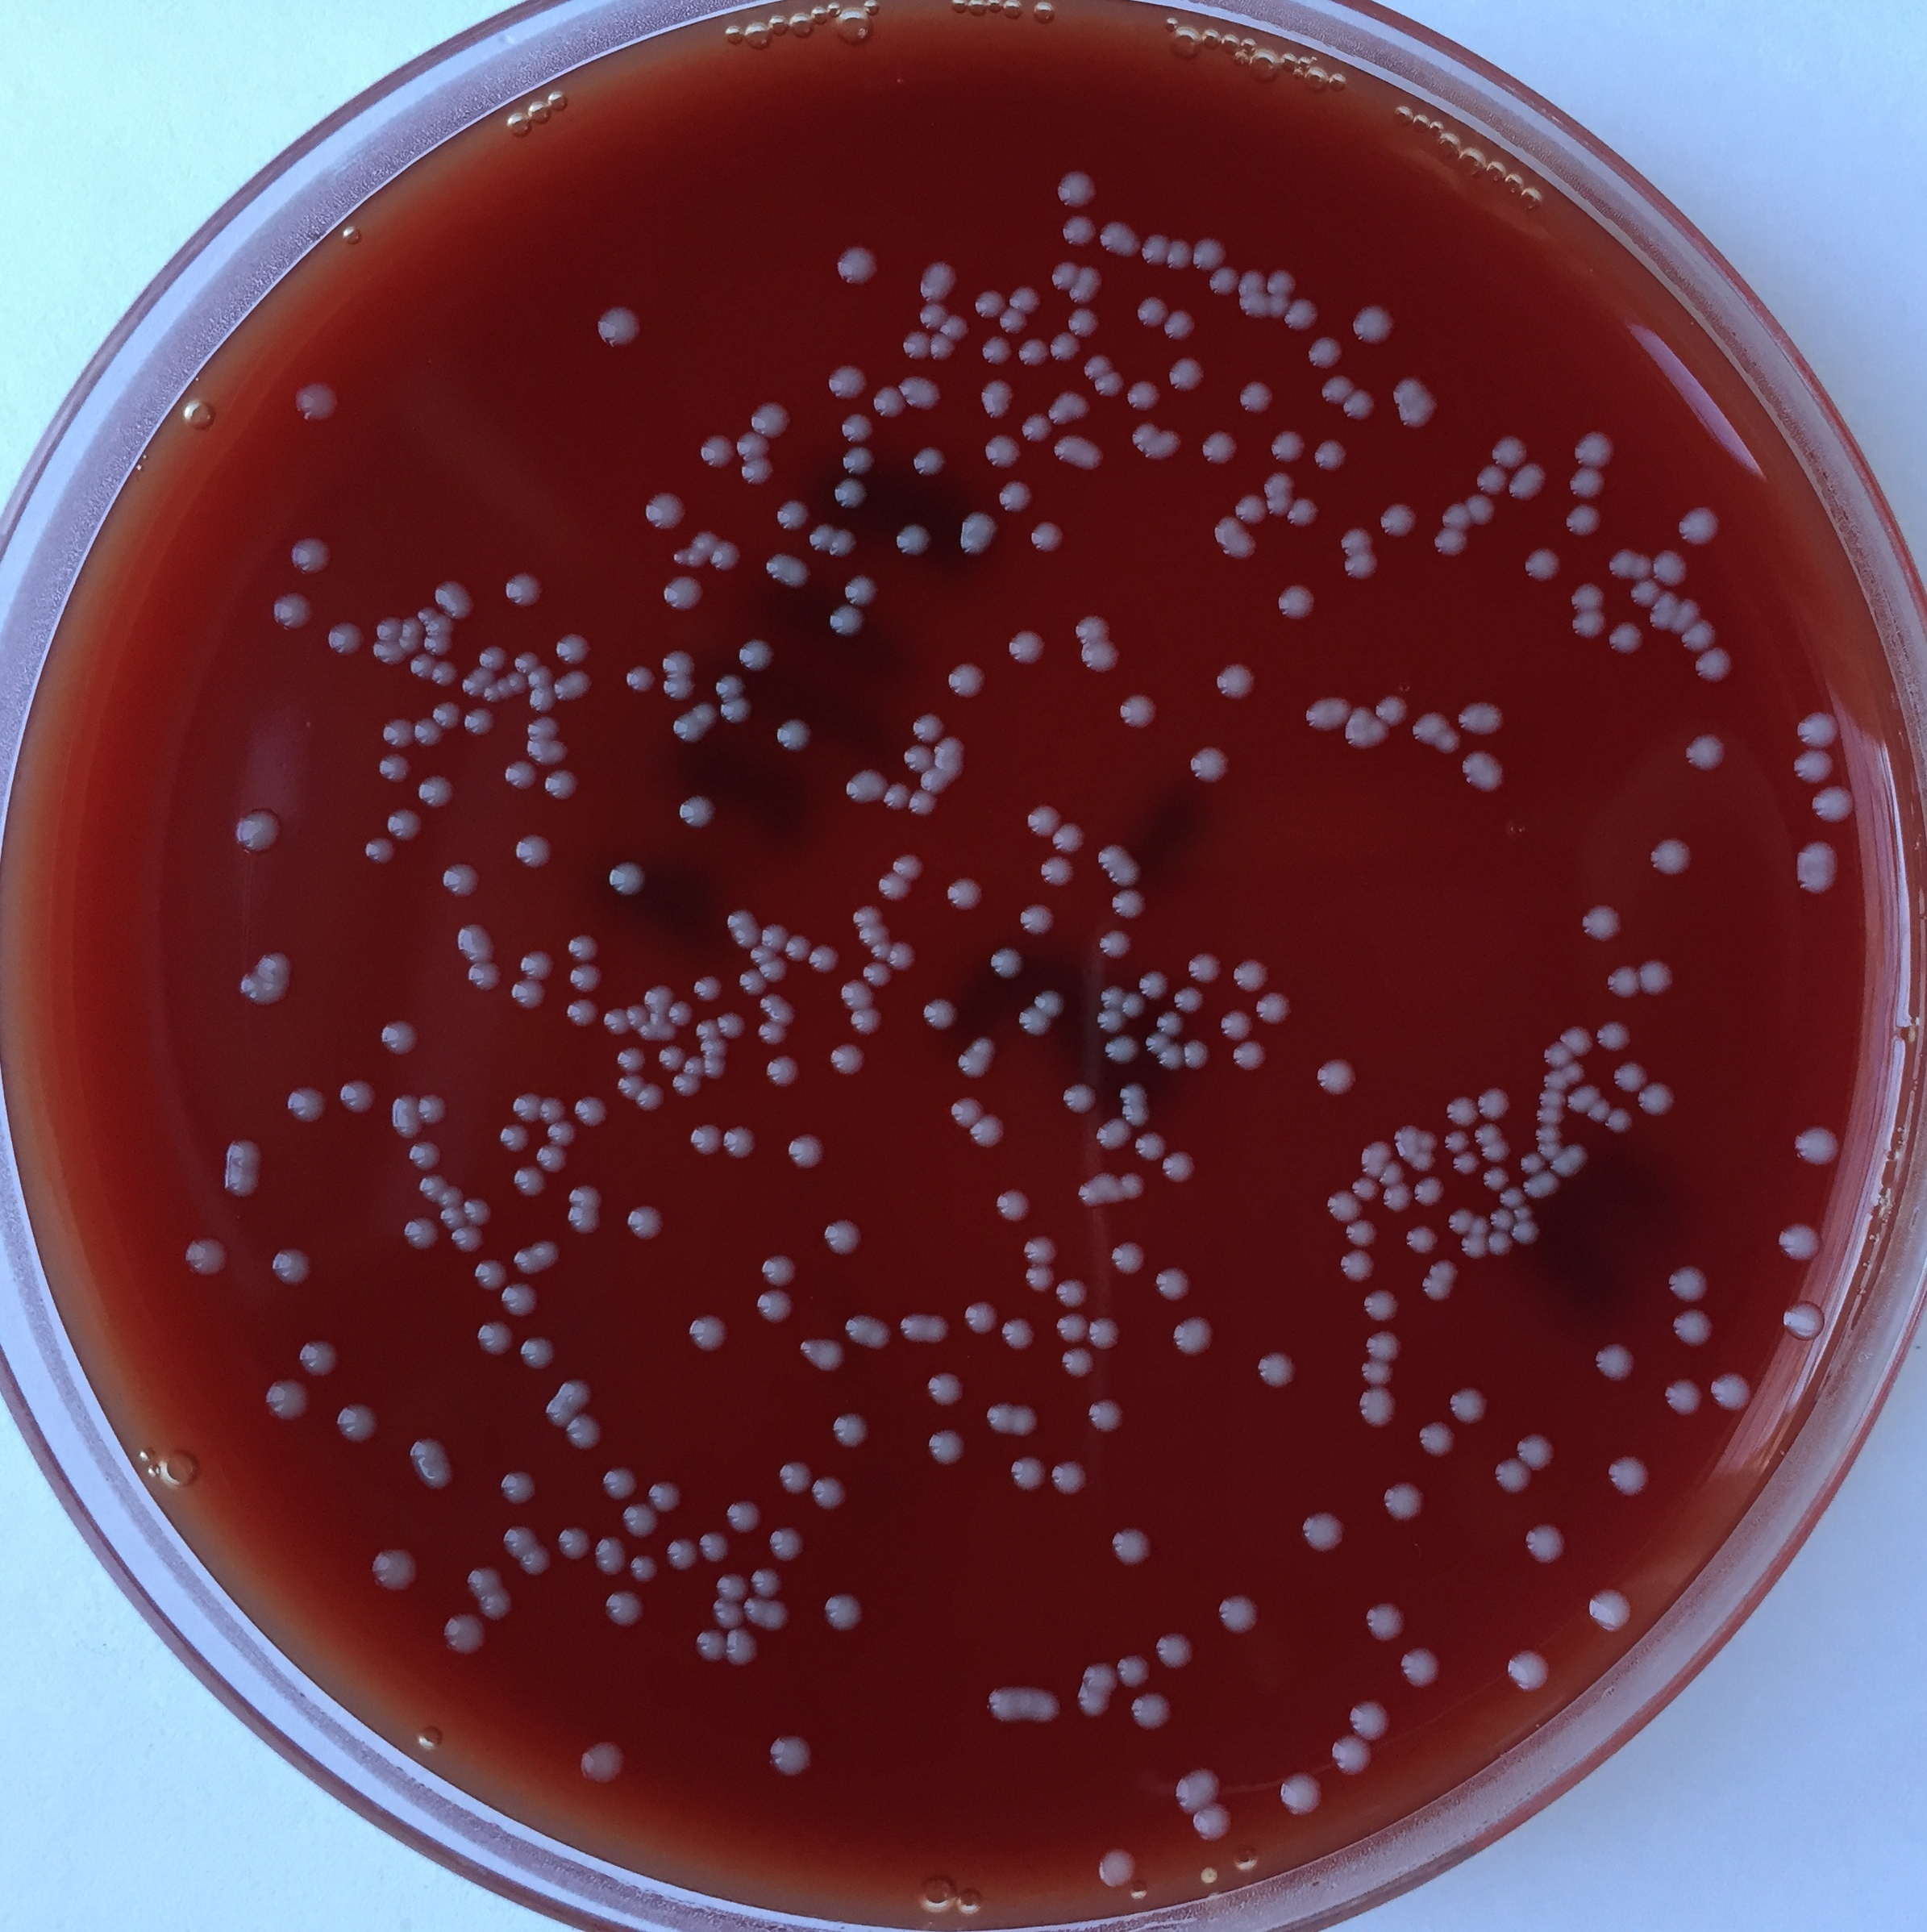sp22: (535, 1376, 598, 1440), (1166, 1763, 1233, 1816), (404, 1431, 461, 1493), (1793, 836, 1842, 900), (221, 1134, 266, 1200), (1391, 376, 1440, 434), (1789, 1120, 1848, 1168), (228, 806, 284, 854), (1301, 690, 1353, 739), (1406, 709, 1459, 759), (1807, 780, 1860, 829), (367, 1547, 422, 1595), (796, 1330, 851, 1378), (1274, 1768, 1329, 1816), (981, 1676, 1029, 1731), (1052, 432, 1108, 478), (1773, 1219, 1826, 1267), (1341, 706, 1394, 753), (1458, 748, 1511, 796), (762, 549, 815, 596), (1586, 1584, 1636, 1634), (766, 1731, 814, 1782), (581, 1734, 626, 1787), (1103, 1526, 1159, 1569), (330, 1399, 379, 1447), (268, 588, 318, 635), (1675, 506, 1726, 552), (831, 245, 884, 289), (439, 1613, 487, 1660), (1682, 730, 1729, 778), (1505, 459, 1553, 506), (1272, 582, 1320, 630), (1503, 1646, 1553, 1692), (1648, 833, 1698, 879), (955, 1037, 1004, 1083), (291, 378, 341, 423), (512, 1233, 561, 1279), (281, 1083, 332, 1127), (1456, 697, 1507, 741), (1380, 1482, 1433, 1524), (637, 489, 690, 531), (896, 1309, 951, 1350), (1129, 1690, 1177, 1736), (265, 1244, 314, 1288), (819, 1588, 868, 1632), (1212, 660, 1262, 704), (263, 1374, 309, 1420), (1346, 1697, 1392, 1743), (1443, 1380, 1489, 1426), (1781, 1295, 1826, 1341), (1708, 1371, 1754, 1417), (1211, 513, 1255, 561), (618, 1500, 665, 1544), (1329, 1733, 1373, 1780), (1361, 1599, 1408, 1643), (1301, 1510, 1348, 1554), (1253, 1348, 1301, 1392), (427, 579, 475, 623), (596, 302, 644, 346), (1092, 1846, 1142, 1888), (411, 771, 461, 813), (1029, 1680, 1066, 1734), (1191, 1801, 1235, 1847), (1398, 1643, 1442, 1689), (1514, 1427, 1558, 1473), (1662, 1374, 1706, 1420), (956, 510, 1001, 556), (289, 533, 335, 577), (844, 1309, 891, 1352), (1519, 1521, 1567, 1563), (1590, 1341, 1638, 1383), (1795, 708, 1842, 750), (916, 259, 958, 307), (896, 372, 944, 415), (496, 568, 544, 610), (376, 1018, 425, 1059), (1311, 1059, 1361, 1099), (454, 919, 498, 963), (605, 1584, 649, 1629), (1608, 1454, 1652, 1498), (926, 1366, 969, 1412), (1571, 427, 1616, 469), (976, 378, 1018, 423), (662, 570, 704, 616), (1117, 690, 1159, 736), (1214, 1593, 1262, 1634), (605, 859, 653, 900), (785, 1129, 828, 1173), (498, 1466, 542, 1509), (1170, 1316, 1214, 1359), (1491, 1456, 1533, 1500), (1666, 1262, 1710, 1304), (1055, 168, 1099, 210), (1352, 302, 1396, 344), (752, 399, 796, 441), (1376, 499, 1422, 540), (824, 602, 870, 642), (918, 993, 964, 1034), (1322, 1191, 1371, 1228), (235, 972, 291, 1004), (184, 1235, 226, 1277), (1413, 1419, 1456, 1461), (1098, 217, 1140, 259), (1075, 1170, 1119, 1210), (686, 1311, 731, 1352), (1789, 746, 1833, 787), (1634, 956, 1678, 997), (335, 1078, 381, 1117), (1152, 1634, 1198, 1673), (1357, 1382, 1396, 1427), (734, 635, 780, 674), (319, 618, 365, 656), (808, 1473, 851, 1514), (1022, 801, 1062, 843), (439, 859, 482, 900), (1302, 332, 1346, 371), (1563, 501, 1608, 540), (1163, 355, 1207, 393), (845, 768, 889, 806), (1078, 639, 1122, 678), (510, 833, 554, 872), (1108, 882, 1147, 926), (1048, 1459, 1092, 1498), (722, 1623, 759, 1669), (1429, 526, 1475, 563), (1546, 1145, 1593, 1180), (1308, 439, 1355, 475), (1518, 547, 1565, 582), (1581, 902, 1622, 942), (828, 362, 868, 402), (1006, 626, 1046, 667), (1018, 898, 1059, 939), (378, 713, 418, 753), (625, 1202, 667, 1240), (476, 1316, 515, 1359), (755, 1284, 798, 1323), (776, 1456, 815, 1498), (766, 1526, 808, 1565), (925, 1426, 967, 1464), (1673, 1306, 1712, 1348), (1316, 371, 1359, 409), (1085, 1397, 1128, 1436), (757, 1251, 801, 1288), (498, 1281, 542, 1318), (1196, 429, 1241, 466), (907, 445, 951, 482), (944, 662, 988, 699), (356, 833, 401, 870), (1488, 432, 1533, 468), (1652, 545, 1687, 591), (720, 1124, 761, 1163), (764, 1050, 805, 1089), (566, 1412, 605, 1452), (598, 1464, 639, 1503), (665, 1537, 706, 1576), (1475, 1083, 1516, 1122), (907, 709, 948, 748), (828, 1041, 868, 1080), (946, 1094, 986, 1133), (1085, 1314, 1126, 1353), (1008, 1452, 1048, 1491), (295, 1339, 337, 1376), (829, 1412, 872, 1449), (1186, 743, 1228, 780), (1267, 427, 1304, 469), (1025, 520, 1068, 558), (1161, 1145, 1198, 1187), (372, 750, 415, 787), (979, 432, 1023, 468), (411, 713, 455, 748), (724, 1498, 762, 1537), (591, 1539, 630, 1577), (1373, 692, 1412, 730), (1608, 619, 1646, 658), (995, 476, 1034, 515), (1038, 850, 1076, 889), (1057, 1344, 1096, 1383), (508, 1089, 545, 1129), (632, 1082, 672, 1119), (1611, 1057, 1652, 1094), (893, 522, 934, 559), (699, 432, 736, 473), (676, 794, 716, 831), (988, 946, 1029, 983), (967, 1110, 1008, 1147), (999, 1314, 1039, 1352), (506, 1163, 549, 1198), (506, 976, 549, 1011), (473, 1253, 508, 1295), (1045, 393, 1089, 427), (556, 1521, 593, 1560), (1113, 1651, 1152, 1689), (1108, 1239, 1147, 1276), (1366, 1325, 1405, 1362), (1636, 1078, 1675, 1115), (1253, 992, 1292, 1029), (1339, 385, 1378, 422), (1461, 492, 1498, 531), (1680, 618, 1717, 656), (1122, 376, 1161, 413), (870, 381, 907, 420), (847, 1004, 886, 1041), (1135, 965, 1172, 1004), (993, 1187, 1032, 1224), (1022, 1232, 1061, 1269), (962, 1297, 999, 1336), (383, 806, 422, 843), (464, 1563, 505, 1599), (1593, 1020, 1634, 1055), (1230, 956, 1271, 992), (1237, 379, 1278, 415), (1059, 213, 1099, 249), (732, 429, 773, 464), (944, 875, 985, 910), (1059, 1080, 1099, 1115), (1228, 1041, 1271, 1075), (771, 715, 814, 748), (656, 672, 701, 704), (1519, 1172, 1565, 1202), (404, 1134, 441, 1172), (466, 958, 503, 995), (561, 993, 598, 1030), (646, 1475, 683, 1512), (822, 1219, 859, 1256), (570, 1092, 609, 1127), (692, 1625, 727, 1664), (1572, 607, 1611, 642), (833, 476, 868, 515), (501, 759, 540, 794), (499, 1523, 540, 1556), (1154, 1267, 1195, 1300), (1216, 1009, 1256, 1043), (1184, 951, 1225, 985), (1569, 468, 1609, 501), (1283, 496, 1323, 529), (840, 573, 881, 607), (898, 743, 939, 776), (1092, 1115, 1133, 1149), (471, 1588, 515, 1618), (415, 1092, 450, 1129), (519, 1540, 554, 1577), (1338, 1247, 1373, 1284), (1556, 1023, 1593, 1059), (1359, 1142, 1394, 1179), (1161, 236, 1196, 273), (1046, 328, 1082, 365), (842, 441, 879, 476), (709, 670, 746, 706), (708, 536, 743, 573), (404, 649, 441, 685), (1071, 265, 1105, 303), (1076, 1690, 1115, 1724), (459, 1194, 498, 1228), (517, 1336, 556, 1369), (1606, 963, 1639, 1002), (771, 498, 810, 531), (542, 769, 581, 803), (552, 628, 591, 662), (1230, 494, 1271, 526), (1692, 648, 1733, 679), (1286, 293, 1318, 333), (450, 1221, 485, 1256), (1361, 1284, 1396, 1320), (1410, 1175, 1445, 1210), (565, 1203, 602, 1237), (1375, 1184, 1412, 1217), (1473, 462, 1511, 496), (1133, 295, 1170, 328), (840, 411, 877, 445), (1096, 928, 1133, 962), (1117, 1166, 1151, 1203), (1052, 1311, 1089, 1344), (1145, 429, 1184, 461), (496, 1124, 535, 1156), (1341, 1217, 1380, 1249), (1045, 259, 1083, 291), (1075, 612, 1113, 644), (1569, 580, 1609, 610), (919, 766, 962, 794), (256, 947, 291, 981), (1569, 1083, 1604, 1117), (614, 1045, 648, 1080), (521, 947, 556, 981), (697, 1528, 731, 1563), (748, 1563, 784, 1597), (1542, 1041, 1578, 1075), (1345, 549, 1380, 582), (1440, 501, 1473, 536), (1136, 233, 1170, 268), (1016, 411, 1052, 445), (898, 332, 934, 365), (738, 453, 773, 487), (877, 780, 911, 815), (806, 942, 842, 976), (1179, 1037, 1212, 1073), (533, 1142, 570, 1173), (399, 1216, 436, 1247), (1442, 1094, 1479, 1126), (1170, 983, 1207, 1015), (1066, 307, 1103, 339), (875, 870, 912, 902), (528, 685, 559, 722), (1189, 240, 1228, 270), (660, 648, 699, 678), (561, 669, 595, 702), (1015, 335, 1048, 369), (916, 300, 949, 333), (891, 850, 925, 884), (1133, 1133, 1166, 1166), (828, 526, 861, 559), (535, 1094, 570, 1126), (1006, 281, 1041, 312), (1163, 307, 1198, 339), (686, 1124, 724, 1154), (565, 932, 602, 962), (1403, 1224, 1440, 1254), (1089, 369, 1126, 399), (1008, 1401, 1038, 1438), (1052, 820, 1083, 854), (842, 976, 875, 1007), (759, 1602, 791, 1636), (568, 960, 602, 992), (694, 970, 725, 1004), (715, 1572, 748, 1604), (1359, 1357, 1392, 1389), (1346, 1175, 1380, 1207), (981, 333, 1013, 367), (623, 662, 656, 693), (905, 789, 939, 820), (759, 921, 791, 955), (736, 967, 769, 999), (1105, 1030, 1138, 1062), (1022, 1262, 1055, 1293), (983, 1403, 1015, 1436), (761, 992, 796, 1022), (972, 289, 1008, 319), (889, 939, 919, 974), (1031, 988, 1066, 1018), (1018, 1004, 1053, 1034), (806, 519, 836, 554), (524, 738, 570, 760), (392, 1092, 416, 1134), (544, 1119, 581, 1147), (1511, 1219, 1548, 1247), (459, 706, 496, 734), (1106, 857, 1145, 884), (1338, 528, 1376, 554), (849, 902, 888, 928), (655, 1043, 686, 1075), (926, 333, 958, 365), (757, 953, 789, 985), (1098, 981, 1129, 1013), (1053, 1274, 1085, 1306), (935, 734, 965, 768), (1082, 1660, 1115, 1690), (568, 1182, 602, 1212), (626, 1554, 660, 1584), (1445, 1205, 1475, 1239), (1207, 265, 1237, 298), (784, 930, 814, 963), (1119, 1101, 1152, 1131), (1676, 596, 1705, 632), (1115, 1078, 1151, 1106), (1652, 595, 1678, 632), (602, 1004, 628, 1041), (716, 1009, 748, 1039), (722, 693, 754, 723), (859, 958, 891, 988), (431, 697, 461, 729), (473, 646, 505, 676), (1158, 1043, 1189, 1073), (1078, 353, 1112, 381), (1154, 1006, 1182, 1039), (754, 1020, 789, 1046), (524, 715, 565, 738), (672, 711, 701, 743), (642, 985, 674, 1013), (1431, 1258, 1463, 1286), (999, 307, 1031, 335), (1267, 266, 1295, 298), (1142, 1030, 1173, 1059), (1438, 1129, 1472, 1156), (667, 1075, 702, 1099), (1629, 582, 1659, 610), (374, 639, 404, 667), (1096, 843, 1126, 872), (715, 1599, 745, 1627), (1479, 1163, 1507, 1193), (429, 658, 459, 686), (1470, 1122, 1503, 1147), (522, 667, 556, 692), (614, 1071, 642, 1099), (1486, 1228, 1514, 1256), (944, 318, 972, 346), (1129, 420, 1159, 446), (420, 1172, 446, 1202), (1608, 547, 1632, 579), (1122, 990, 1147, 1022), (1452, 1150, 1481, 1177), (1488, 1207, 1516, 1233), (514, 648, 540, 676), (1239, 295, 1269, 319), (1609, 1106, 1634, 1136), (681, 1053, 708, 1080), (1096, 1007, 1124, 1032), (1422, 1276, 1451, 1300), (1516, 1150, 1544, 1175), (729, 926, 759, 949), (425, 616, 457, 637), (1241, 268, 1265, 295), (374, 612, 399, 639), (669, 997, 694, 1023), (1263, 494, 1292, 517), (1263, 473, 1292, 494), (695, 702, 715, 732), (859, 926, 889, 946), (1512, 1202, 1542, 1221), (441, 1186, 466, 1209), (1632, 550, 1650, 582), (424, 637, 455, 655), (1535, 1106, 1567, 1124), (1486, 1140, 1512, 1161), (1500, 1186, 1526, 1207), (1269, 295, 1288, 323), (1535, 1124, 1563, 1143), (748, 946, 776, 965), (401, 614, 422, 639), (694, 529, 715, 554), (626, 1002, 646, 1029), (701, 1039, 727, 1059), (694, 1020, 720, 1039), (727, 909, 759, 925), (1586, 1099, 1609, 1120), (1463, 1237, 1484, 1260), (704, 1059, 729, 1078), (1539, 1089, 1565, 1106), (462, 676, 484, 697), (1396, 1142, 1417, 1163), (1415, 1129, 1436, 1150), (496, 676, 515, 699), (471, 665, 494, 685), (1412, 1152, 1435, 1172), (743, 1600, 762, 1623), (508, 670, 526, 693), (1542, 1071, 1565, 1089), (686, 547, 706, 566), (439, 1209, 459, 1228), (418, 603, 436, 625), (399, 637, 425, 651), (1567, 1064, 1585, 1085), (1394, 1126, 1415, 1143), (1537, 1143, 1560, 1159), (639, 1022, 656, 1041), (658, 1023, 678, 1041), (484, 685, 499, 704), (1472, 1219, 1488, 1239), (870, 944, 888, 958), (672, 549, 685, 568), (648, 1011, 669, 1022)
